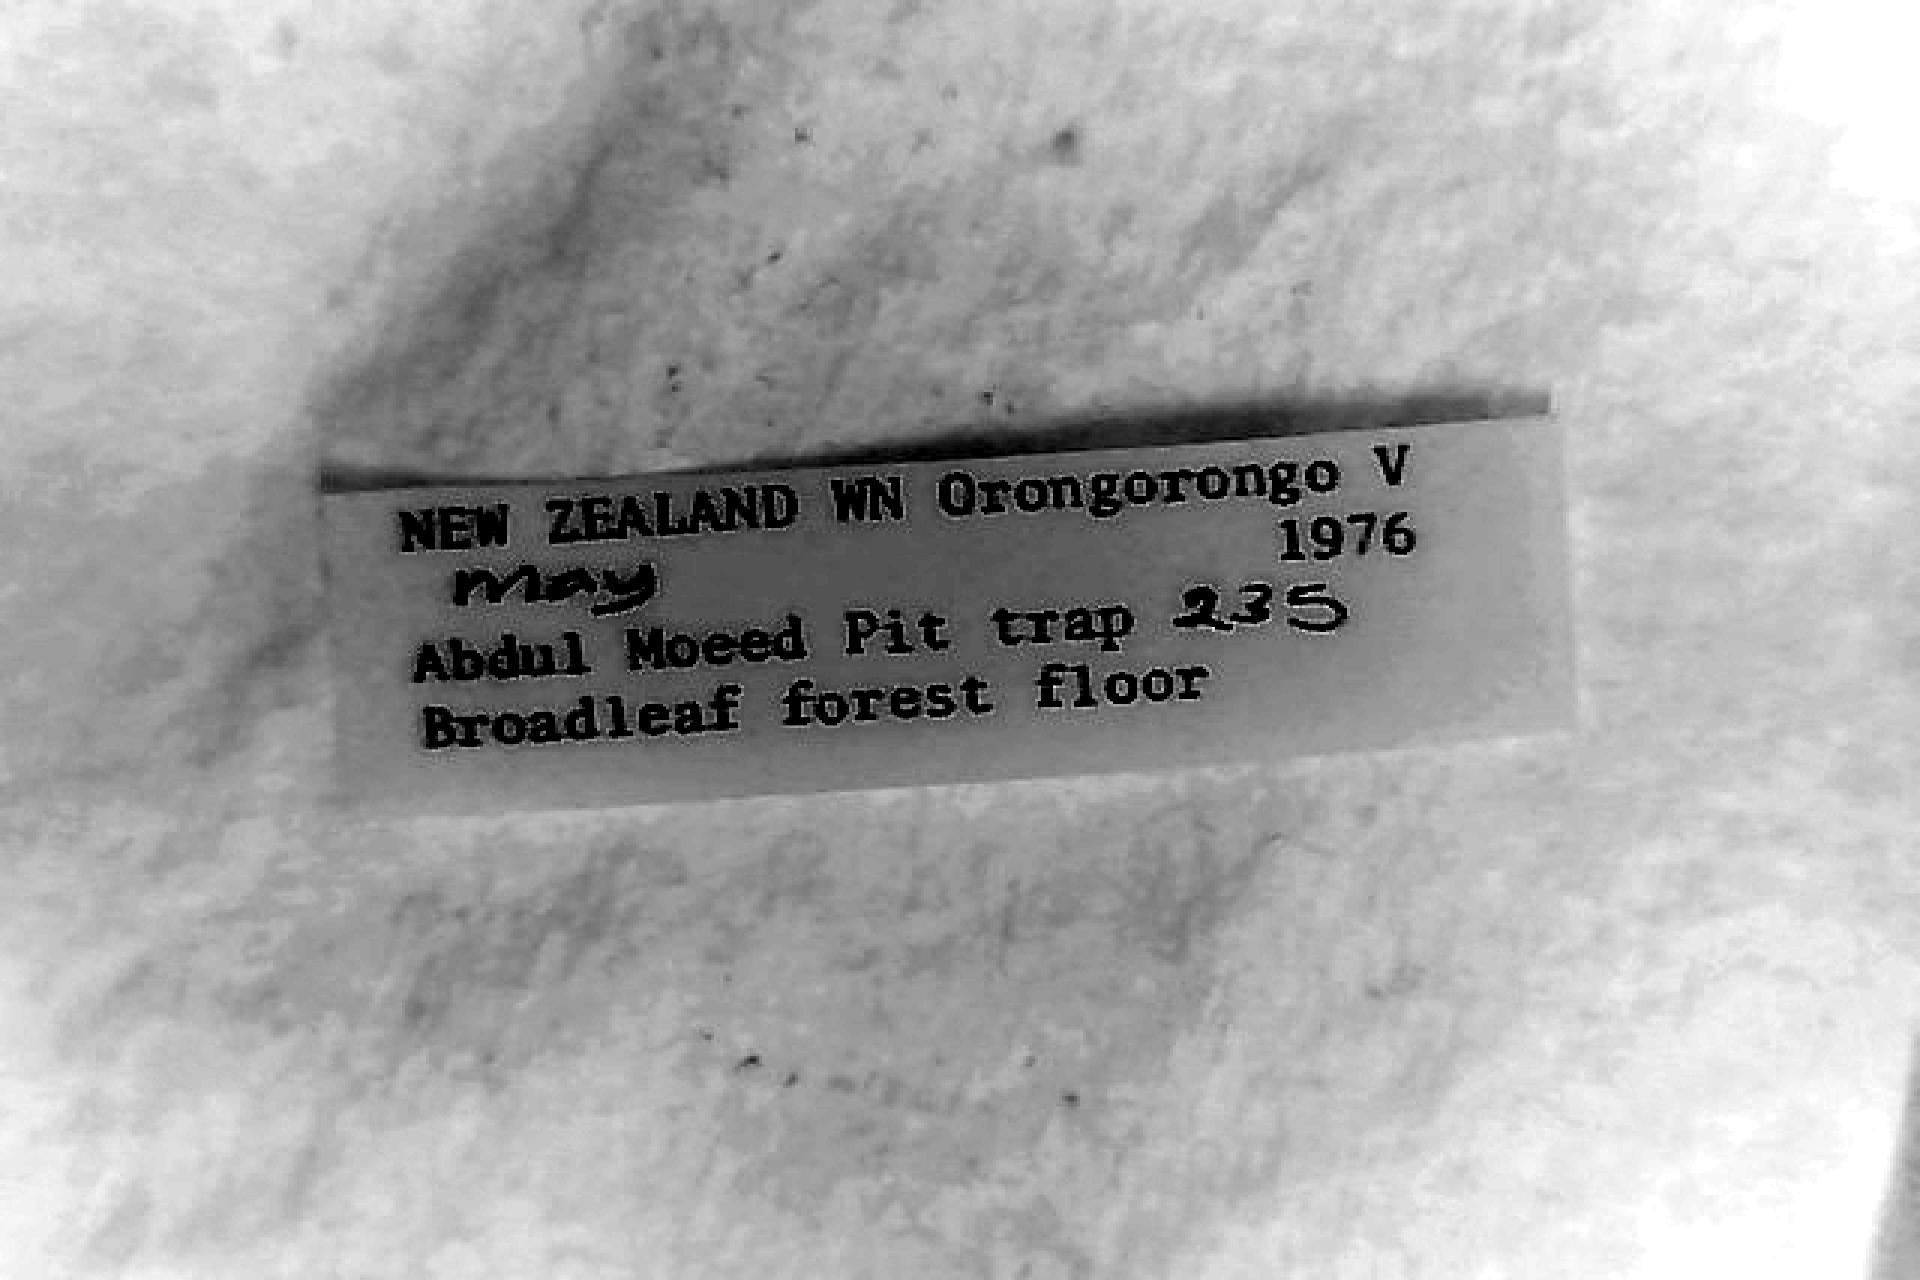mixed_label: (331, 417, 1571, 807)
